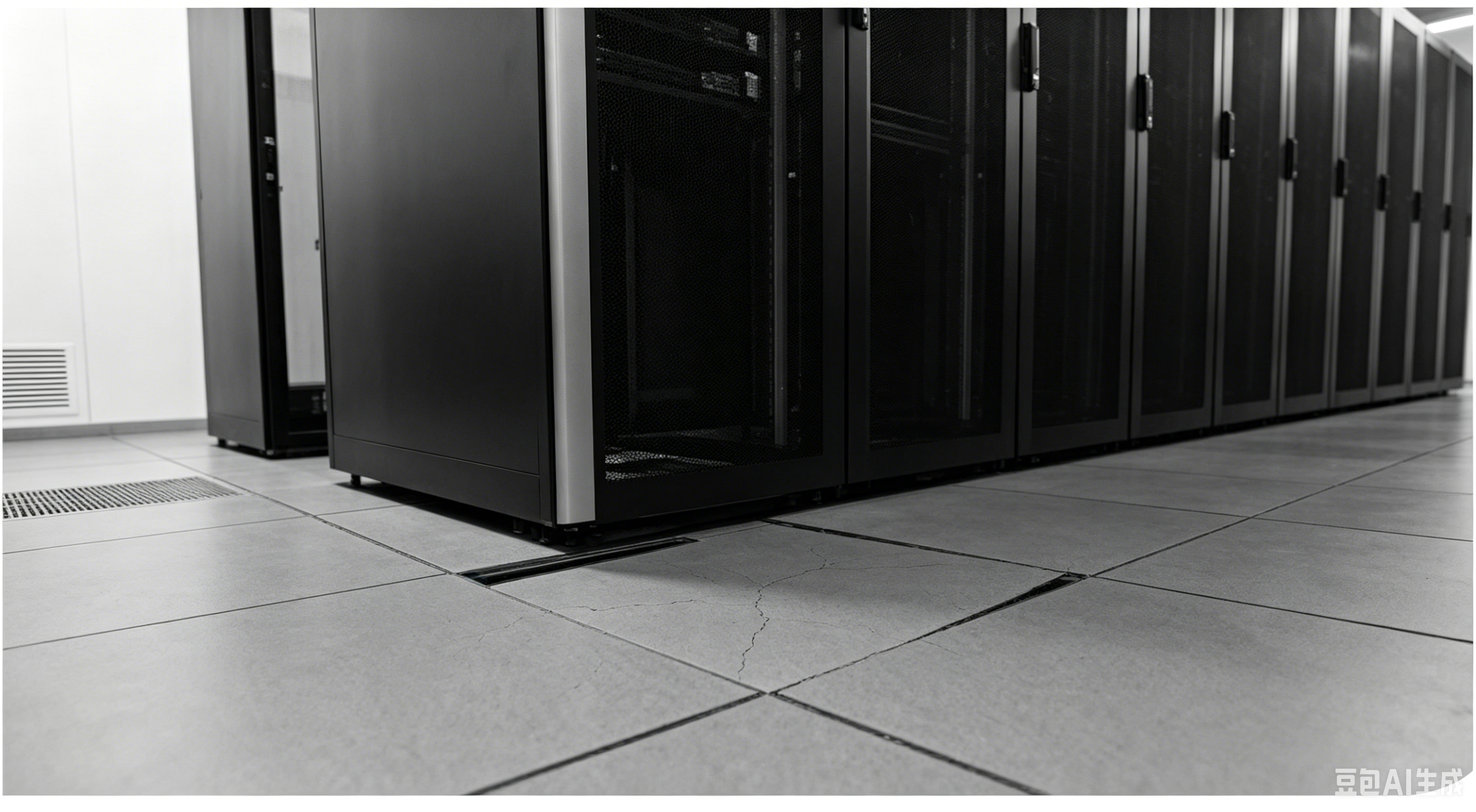floor_defect: (469, 513, 1095, 675)
